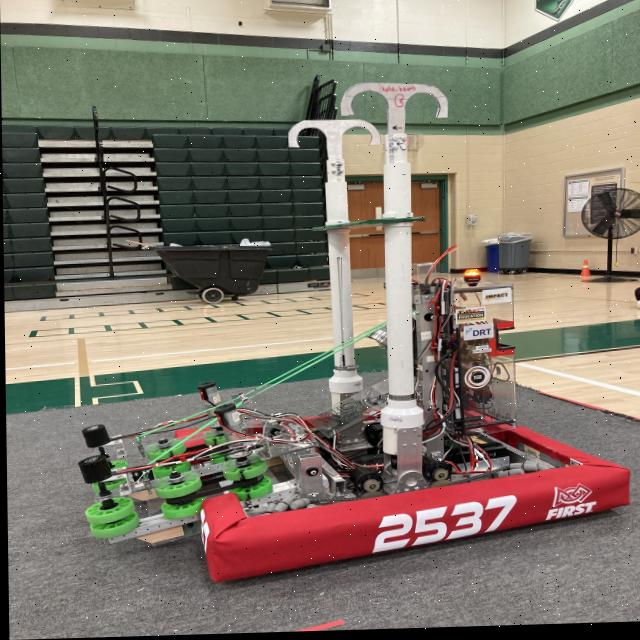robot: (71, 75, 633, 590)
